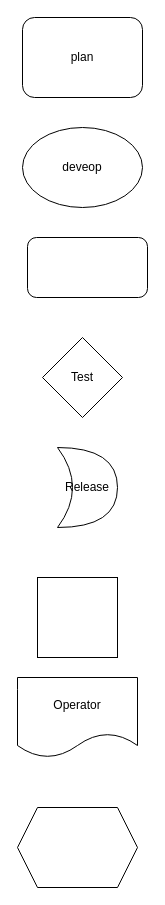
Image size: 165x905. Some labels were removed from this diagram. The centre of each missing label's shape, as x and y in pixels:
"Build" goes at (87,267).
"Deploy" goes at (77,617).
"Monitor" goes at (77,847).
